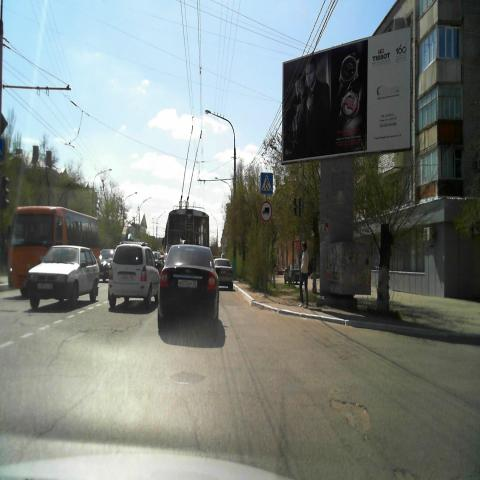3_4_1: (260, 201, 272, 222)
